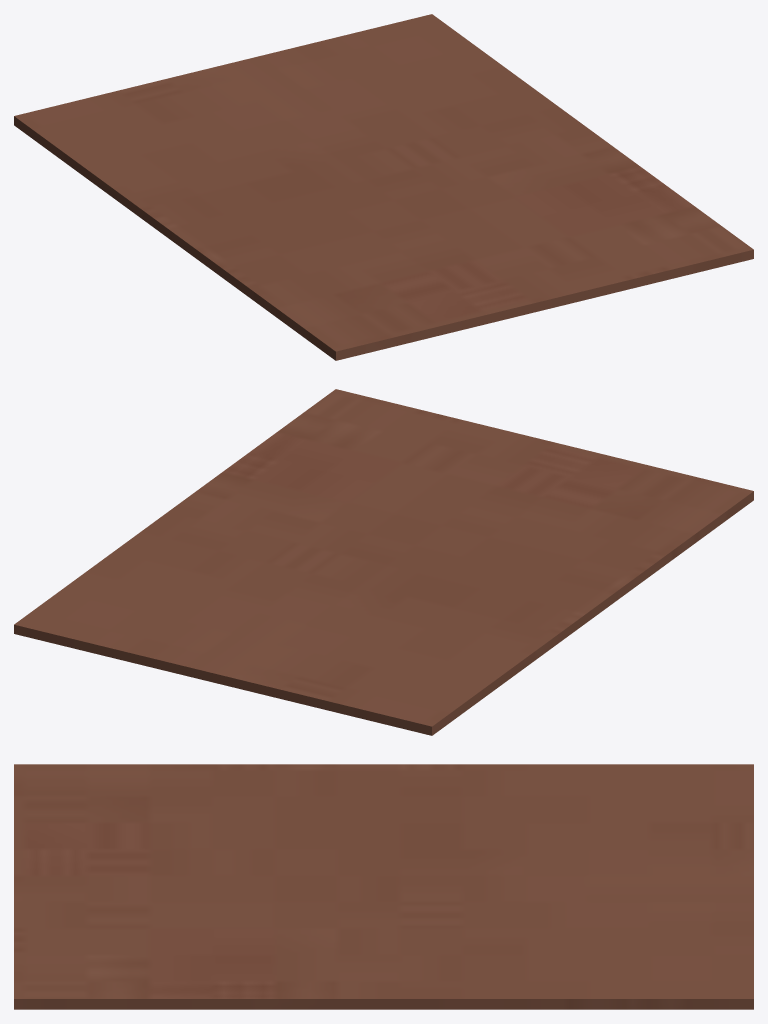
The model's file is copper.fbx.
3 views of the same model, one above another, from view 1: azimuth 30°, elevation 25°; view 2: azimuth 150°, elevation 25°; view 3: azimuth 270°, elevation 25° (orthographic). The views are drawn at different scales.
Parts seen in each view (by area): view 1: copper; view 2: copper; view 3: copper.
Part boxes in pixels (box(x1,y1,x2,y2)): copper: box(14, 14, 753, 360); copper: box(14, 389, 753, 735); copper: box(14, 764, 753, 1009).
Size of the model in its own units: 75 by 1.59 by 100.
1 material, 1 textured.
